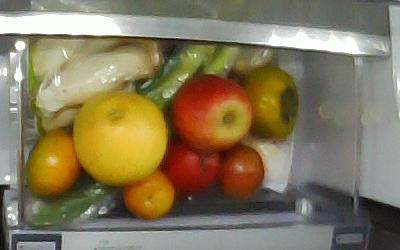apple: (172, 73, 251, 152), (158, 140, 222, 192)
grapefruit: (71, 92, 166, 182)
persimmon: (240, 65, 301, 143), (26, 130, 79, 196)
prune: (213, 148, 265, 198), (123, 170, 177, 216)
